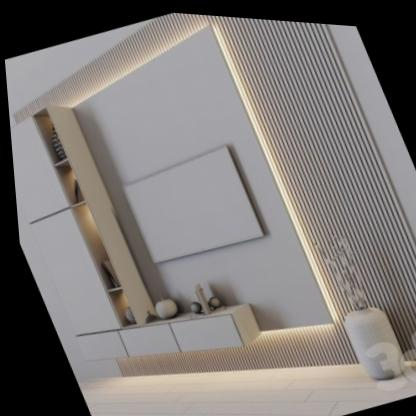Wooden floor: (71, 357, 416, 416)
